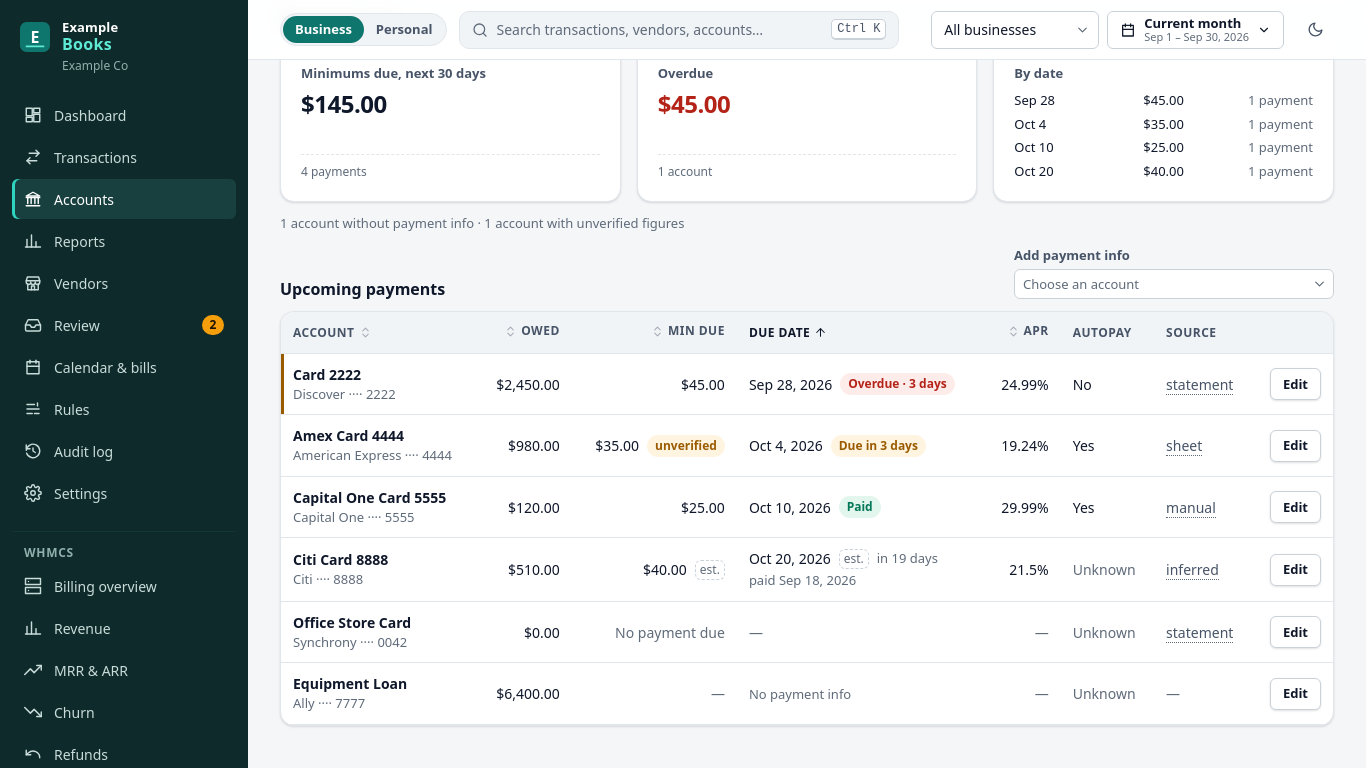
payments on the business Accounts page › shows the server's error inside the drawer
(page scrolled)
Expected: the table named "Upcoming payments" is shown, [281,312,1333,725]
Step 1. Click the button with aria-label "Edit payment info for Card 2222" → coordinates (1295, 384), box [1270,368,1321,400]
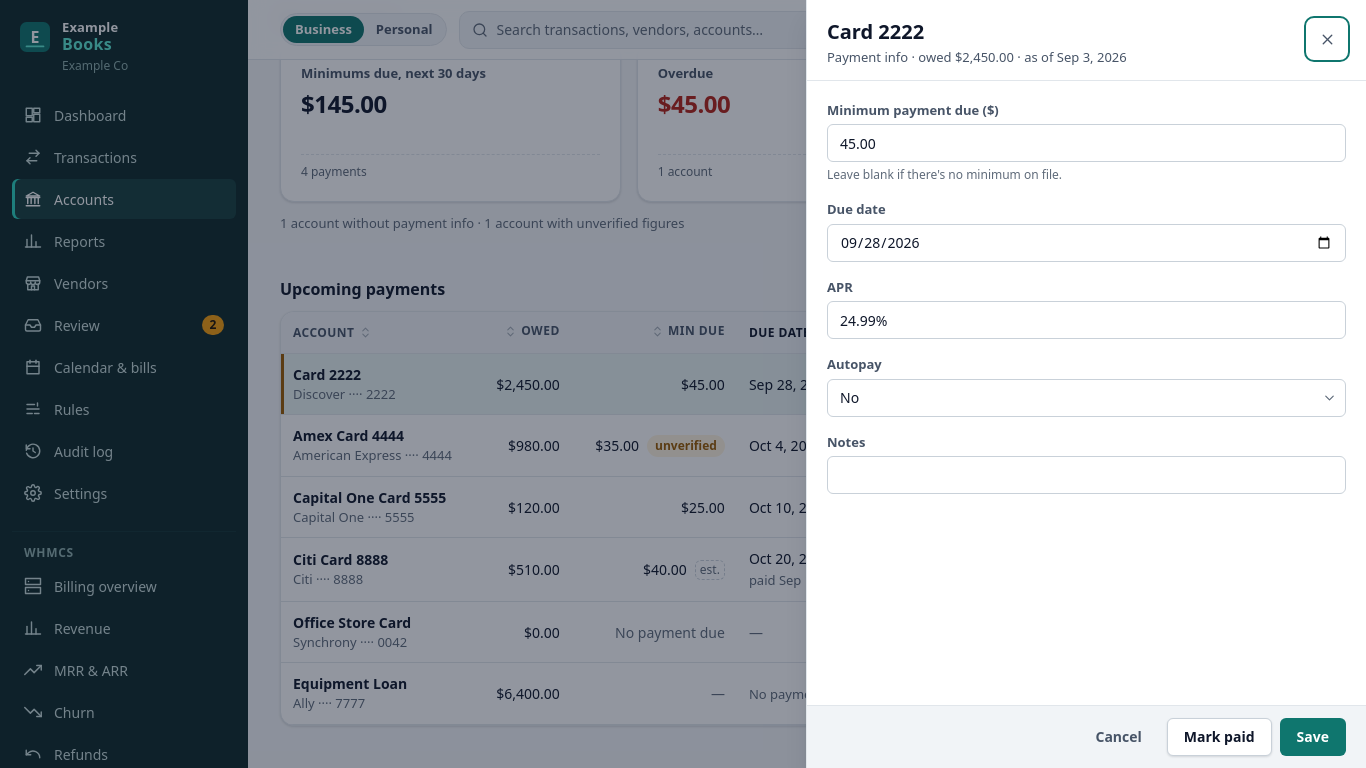
Step 2. Type "call bank" into the field labelled "Notes" → coordinates (1086, 475), box [827,456,1346,494]
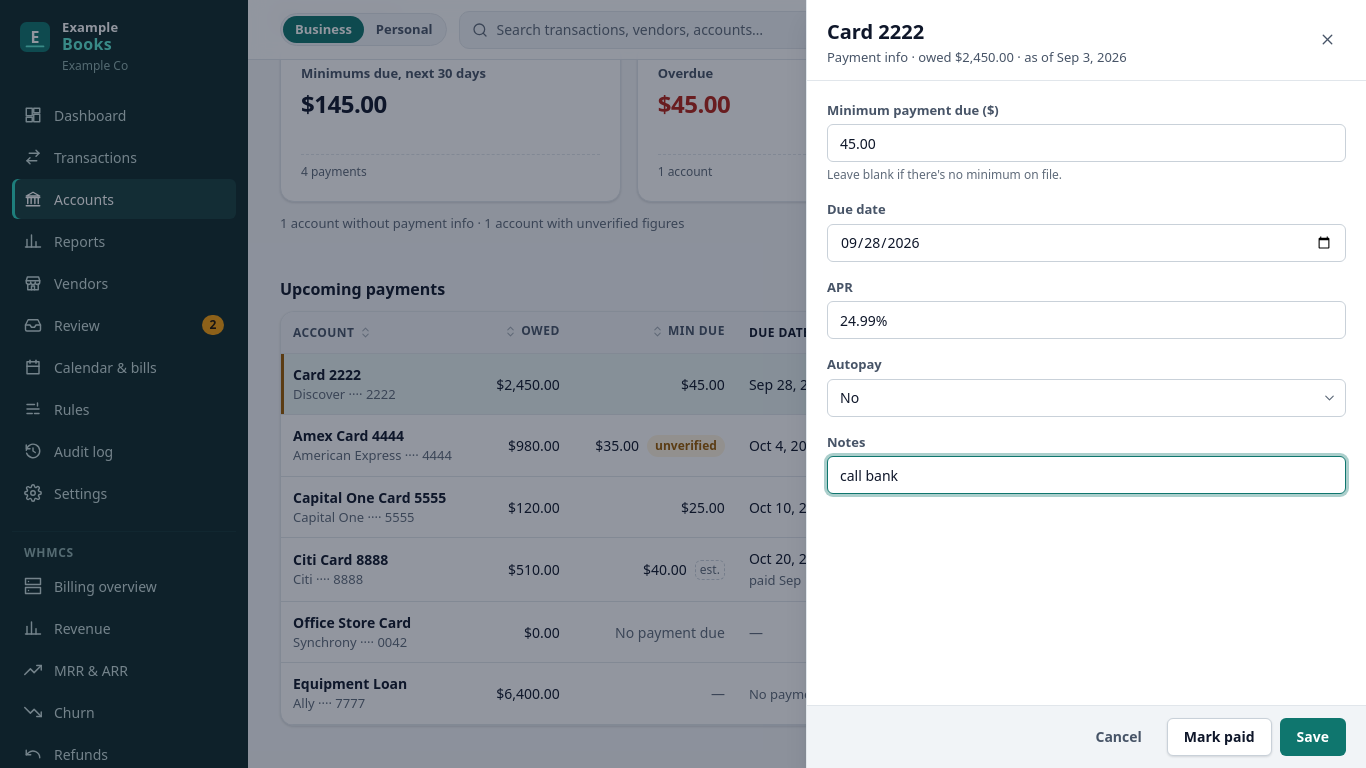
Step 3. Click the button "Save" → coordinates (1313, 737), box [1280,718,1346,756]
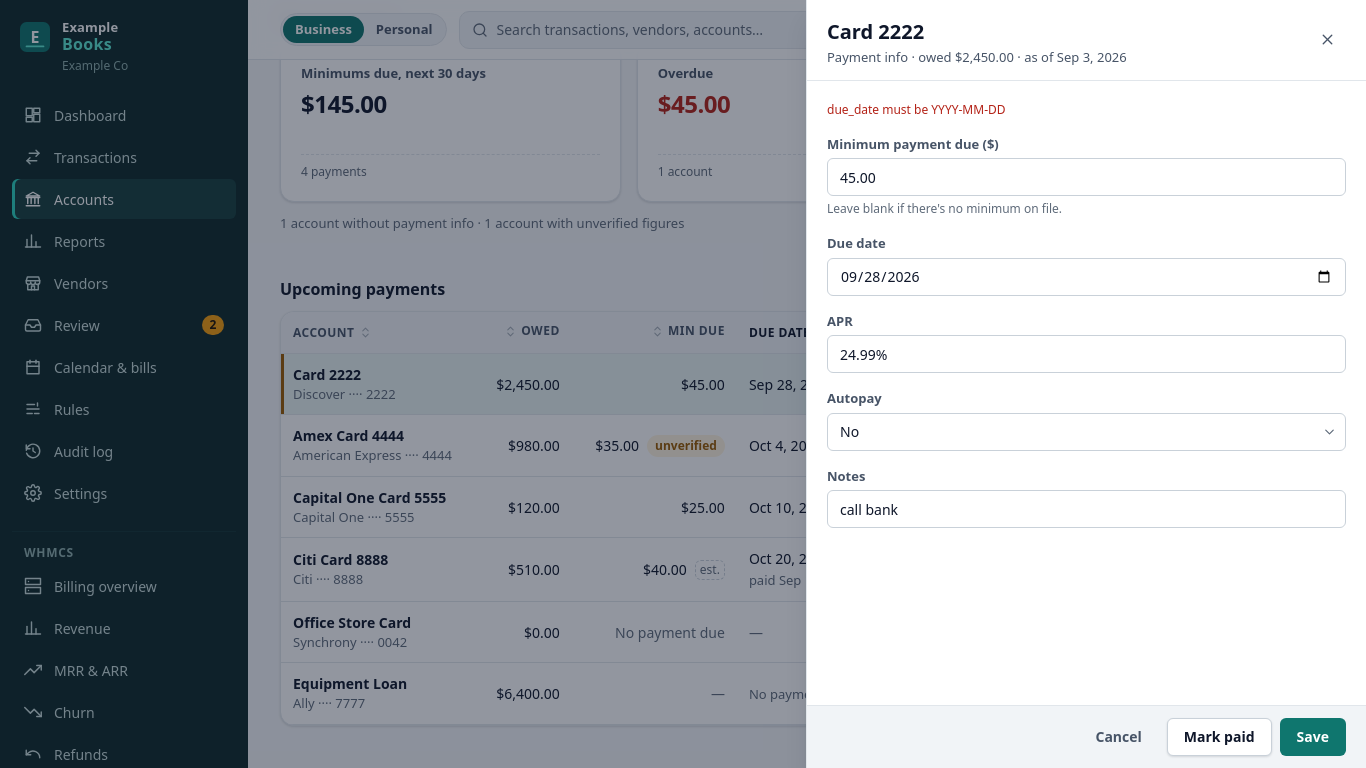
Expected: the dialog "Card 2222" is shown, [806,0,1365,767]
Expected: the message reads "due_date must be YYYY-MM-DD", [827,100,1006,118]
